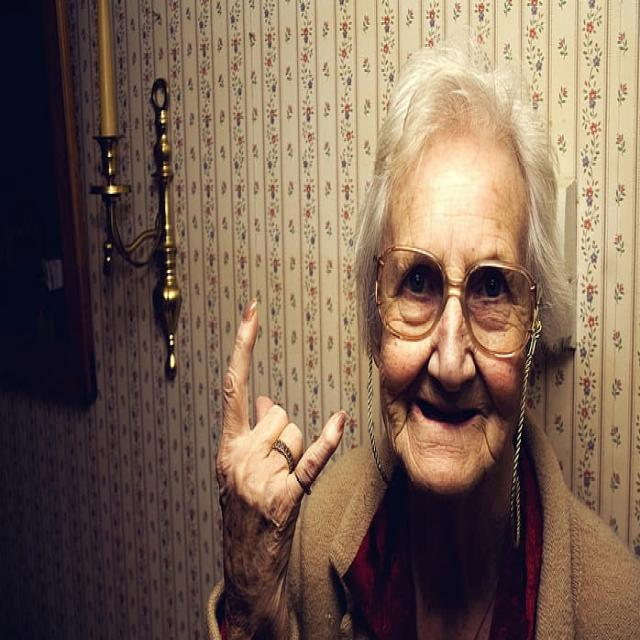Glasses: (373, 240, 542, 366)
